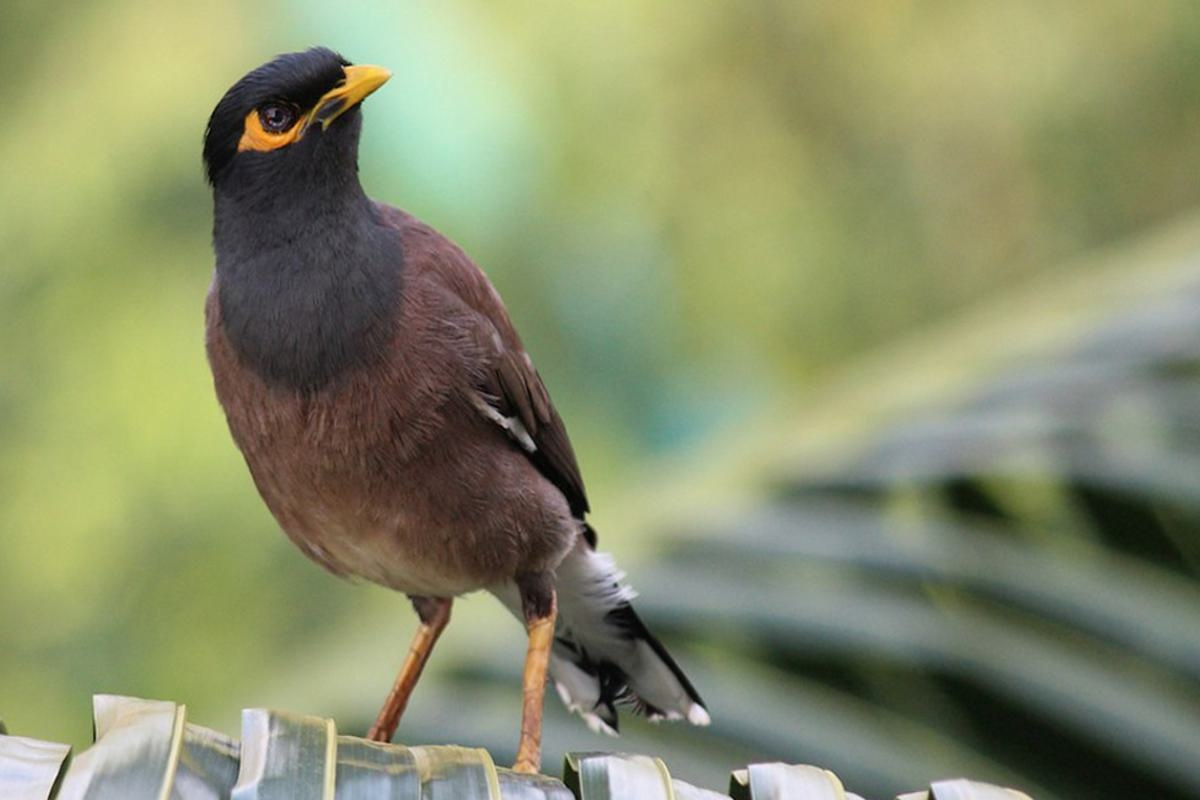myna: (178, 34, 673, 735)
